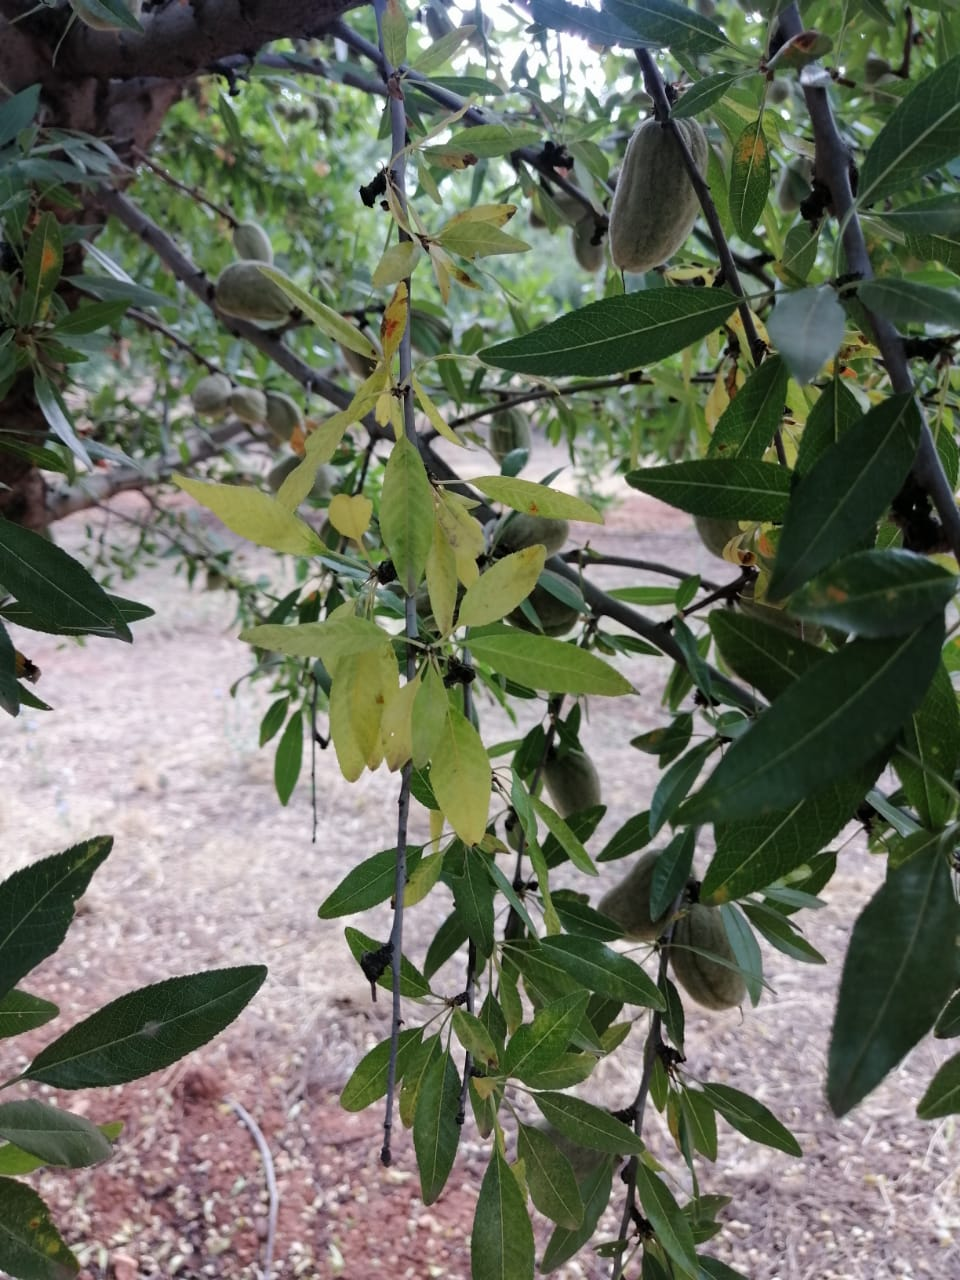chancre fusicocum: (283, 280, 494, 867)
